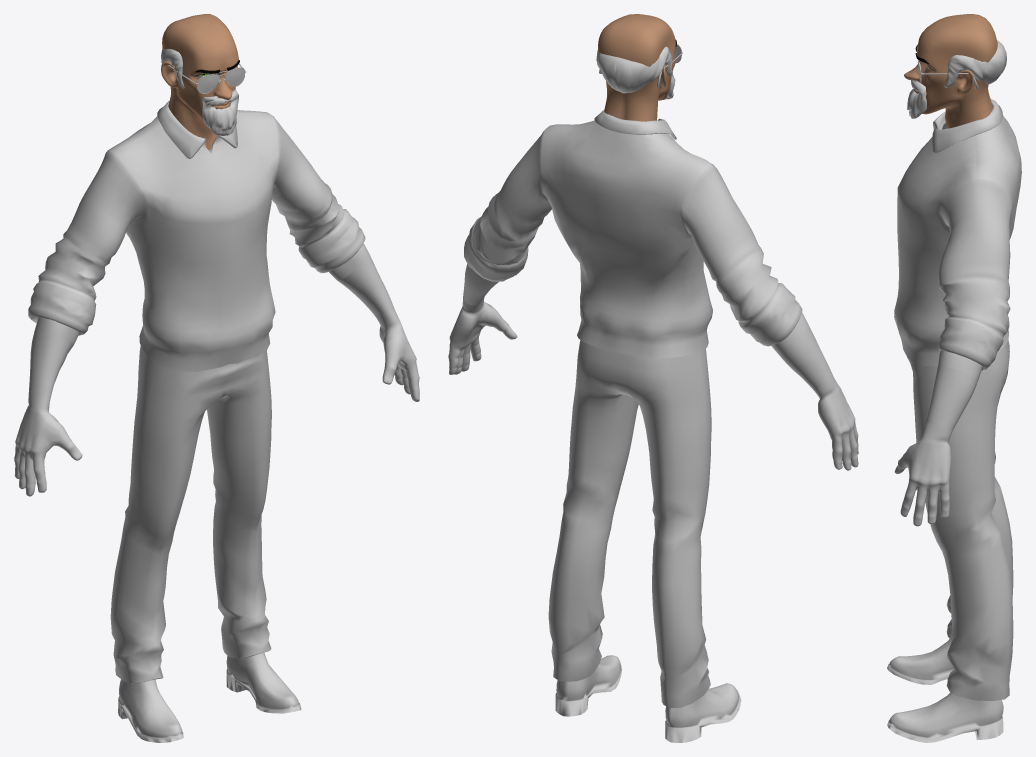
Rendered from M Character 18.fbx.
3 renders of one model, left to right at view 1: azimuth 30°, elevation 25°; view 2: azimuth 150°, elevation 25°; view 3: azimuth 270°, elevation 25°, orthographic.
Parts seen in each view (by area): view 1: Wolf3D_Outfit_Top.013, Wolf3D_Outfit_Bottom.015, m_head, m_body.001, Wolf3D_Outfit_Footwear.014, m_body.003, m_body.002, Wolf3D_Glasses.008; view 2: Wolf3D_Outfit_Top.013, Wolf3D_Outfit_Bottom.015, m_head, m_body.001, Wolf3D_Outfit_Footwear.014, m_body.003, Wolf3D_Hair.011; view 3: Wolf3D_Outfit_Top.013, Wolf3D_Outfit_Bottom.015, m_head, Wolf3D_Outfit_Footwear.014, m_body.001, m_body.003, Wolf3D_Hair.011, m_body.002.
Part boxes in pixels (x1,y1,x2,y2): Wolf3D_Outfit_Top.013: (28, 101, 365, 371); Wolf3D_Outfit_Bottom.015: (110, 345, 271, 683); m_head: (161, 14, 239, 150); m_body.001: (14, 306, 419, 496); Wolf3D_Outfit_Footwear.014: (118, 652, 301, 742); m_body.003: (29, 254, 393, 394); m_body.002: (34, 243, 369, 344); Wolf3D_Glasses.008: (167, 63, 246, 94); Wolf3D_Outfit_Top.013: (464, 110, 802, 357); Wolf3D_Outfit_Bottom.015: (548, 340, 711, 707); m_head: (597, 14, 676, 121); m_body.001: (448, 296, 858, 470); Wolf3D_Outfit_Footwear.014: (555, 655, 741, 742); m_body.003: (463, 264, 831, 388); Wolf3D_Hair.011: (596, 46, 672, 93); Wolf3D_Outfit_Top.013: (894, 99, 1021, 370); Wolf3D_Outfit_Bottom.015: (907, 340, 1013, 700); m_head: (904, 14, 997, 128); Wolf3D_Outfit_Footwear.014: (887, 639, 1003, 742); m_body.001: (894, 422, 952, 526); m_body.003: (926, 364, 978, 429); Wolf3D_Hair.011: (944, 40, 1006, 87); m_body.002: (938, 350, 982, 377).
Bounding box in the file's own units: 117 × 196 × 34.88.
